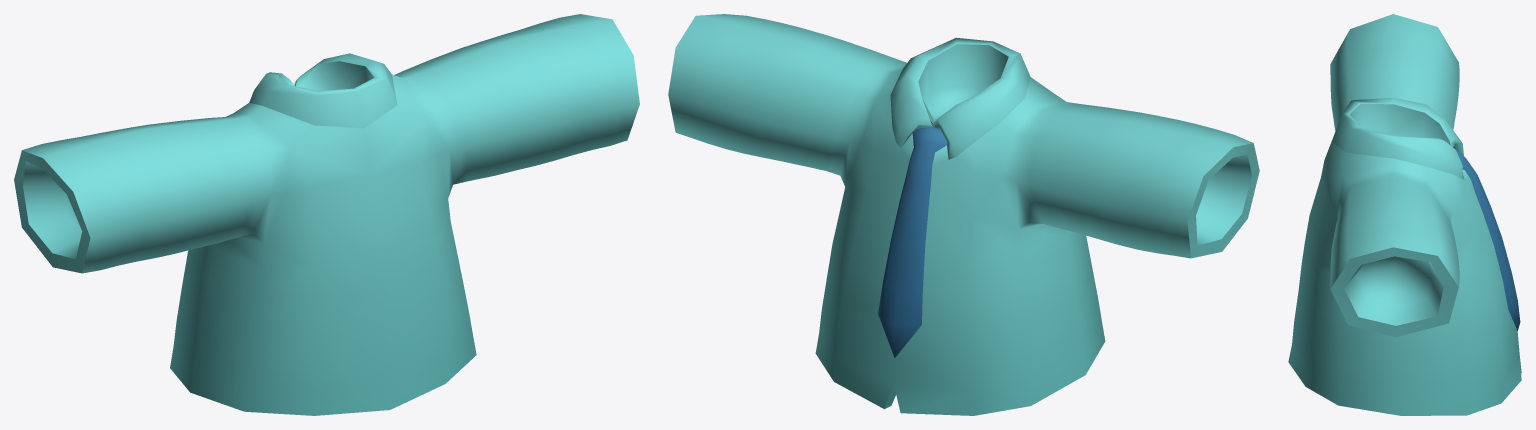
The model's file is Top_25.fbx.
The picture shows the model from 3 angles, left to right: view 1: azimuth 30°, elevation 25°; view 2: azimuth 150°, elevation 25°; view 3: azimuth 270°, elevation 25°; orthographic projection. The views are drawn at different scales.
Parts seen in each view (by area): view 1: Top_25; view 2: Top_25; view 3: Top_25.
Part boxes in pixels (x1,y1,x2,y2): Top_25: [14, 14, 639, 415]; Top_25: [668, 14, 1259, 415]; Top_25: [1288, 14, 1521, 415].
Bounding box in the file's own units: 97.11 × 51.29 × 41.04.
